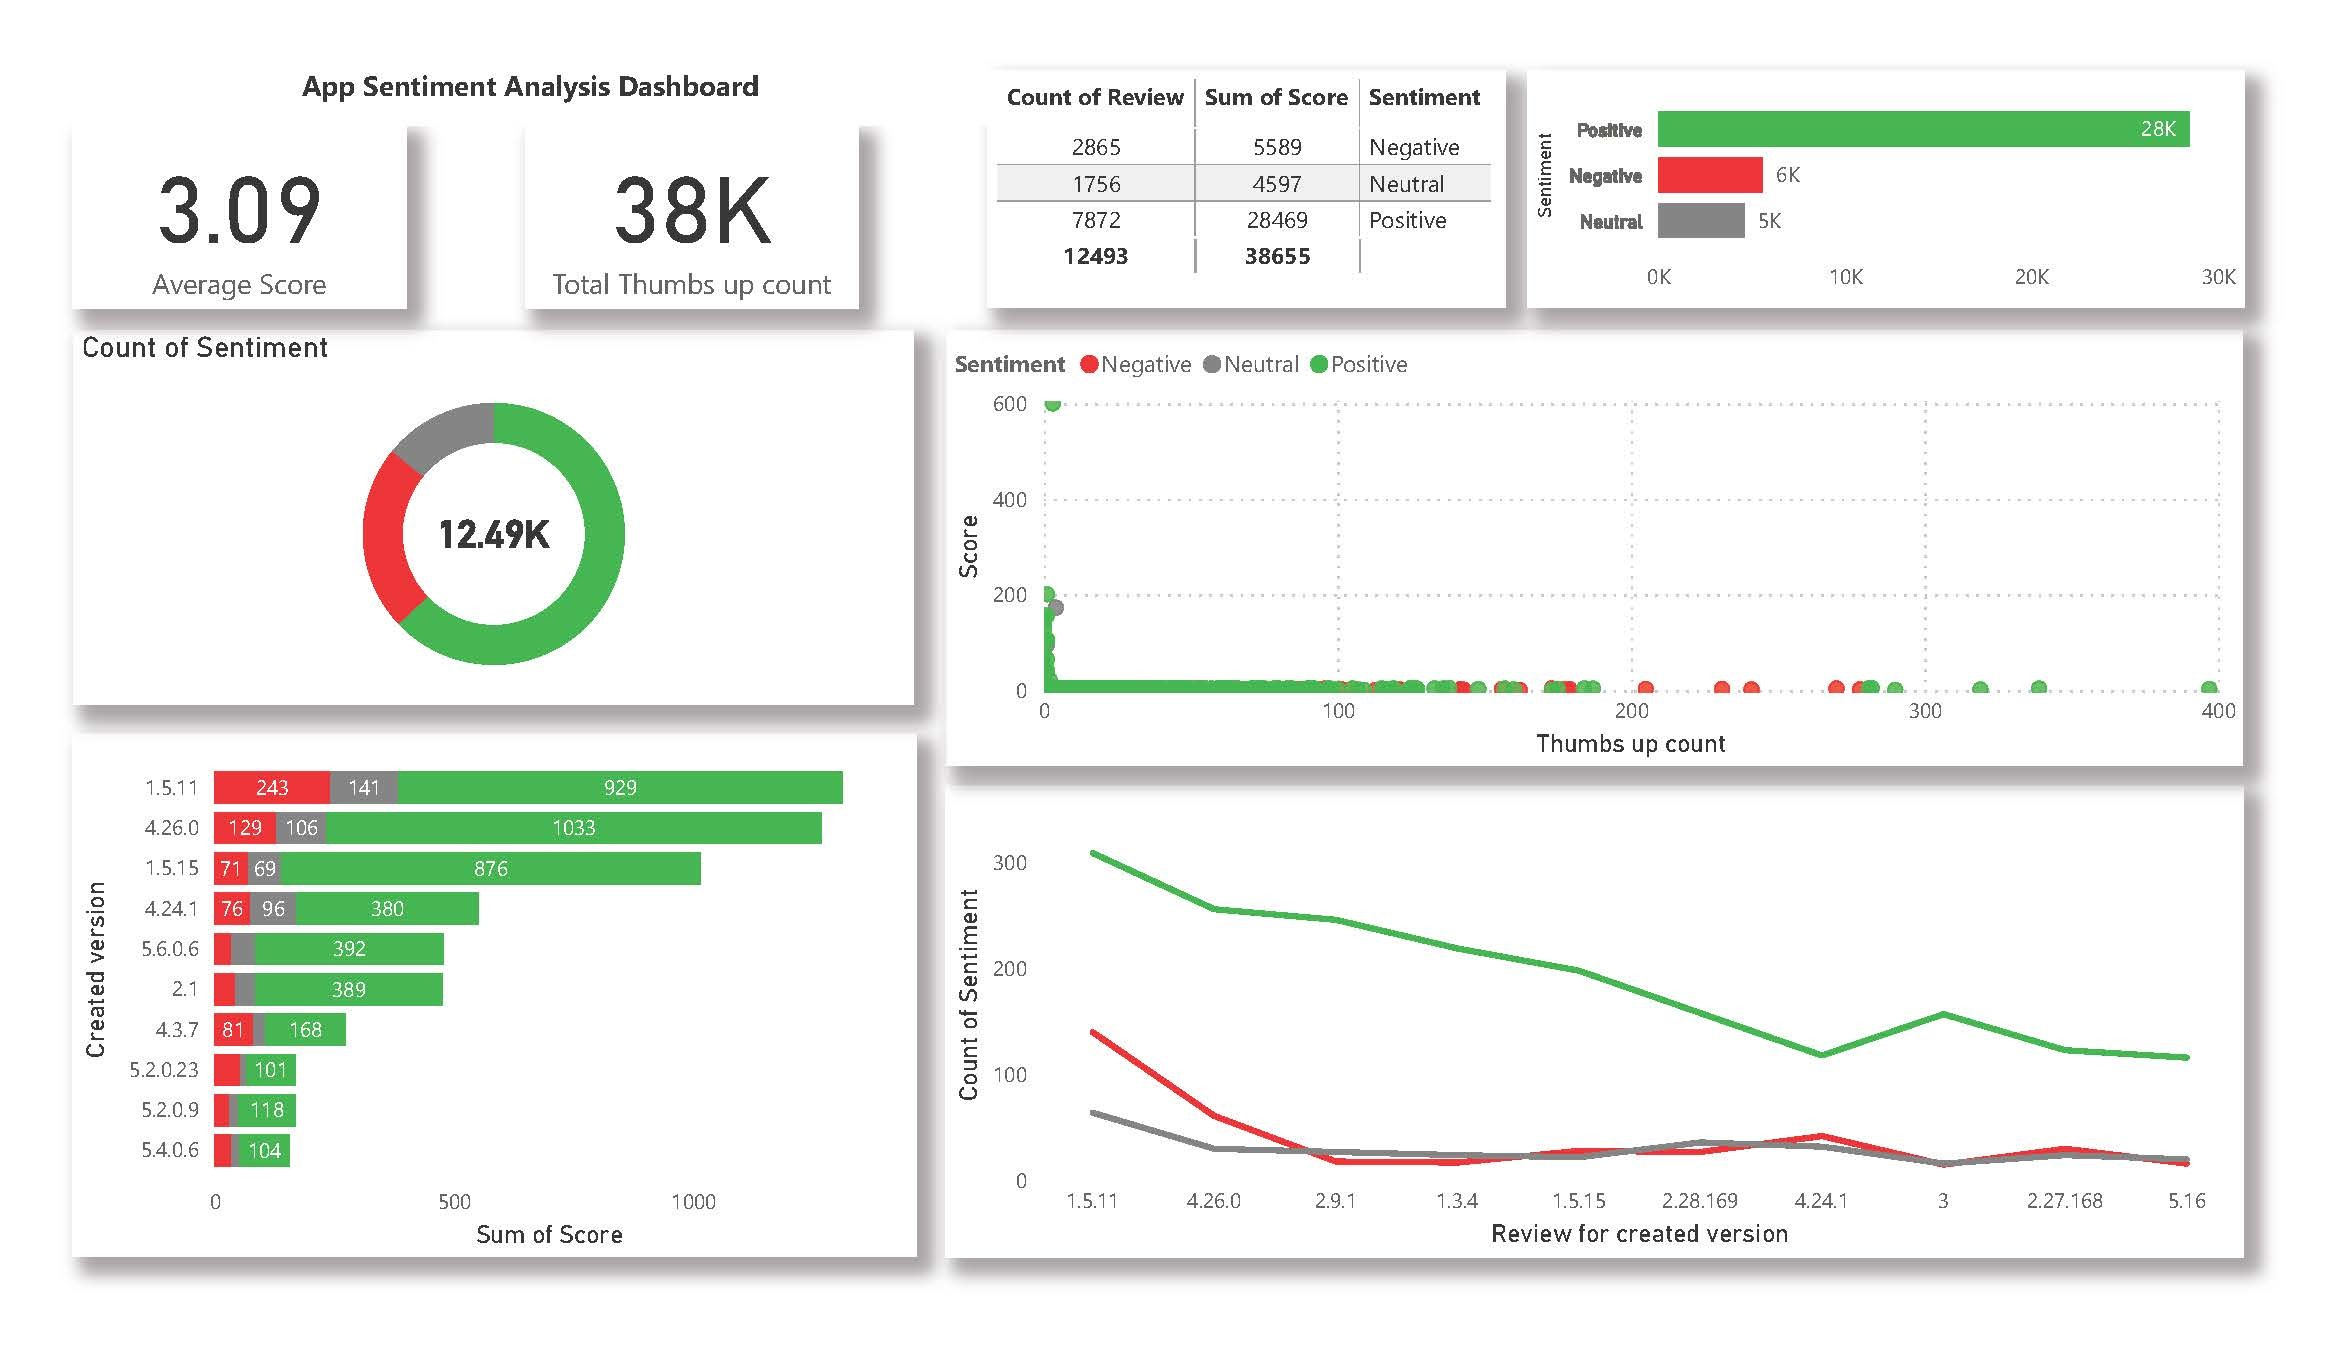

This screenshot's page, from the dashboard's own definition file:
{"tool":"powerbi","page":{"name":"Page 1","canvas":[1280,720],"ordinal":0},"visuals":[{"type":"card","fields":{"Values":["Avg(Sheet1.Score)"]},"box":[13.3,43.4,193,106.1],"z":0},{"type":"card","fields":{"Values":["Sum(Sheet1.Thumbs up count)"]},"box":[219.5,43.4,281,106.1],"z":1000},{"type":"tableEx","fields":{"Values":["Sheet1.Review","Sum(Sheet1.Score)","Sheet1.Sentiment"]},"box":[542.7,12.1,300.3,137.5],"z":2000},{"type":"barChart","fields":{"Y":["Sum(Sheet1.Score)"],"Category":["Sheet1.Sentiment"]},"box":[855.1,12.1,414.9,137.5],"z":3000},{"type":"barChart","title":"Top 10 version based on Maximum Thumbs up count","fields":{"Category":["Sheet1.Review created version"],"Series":["Sheet1.Sentiment"],"Y":["Sum(Sheet1.Score)"]},"box":[13.7,393.8,487.1,306],"z":4000},{"type":"lineChart","title":"Top 30 Versions based on Maximum scores","fields":{"Category":["Sheet1.Review created version"],"Y":["CountNonNull(Sheet1.Sentiment)"],"Series":["Sheet1.Sentiment"]},"box":[518.6,425.7,751.4,272.6],"z":5000},{"type":"donutChart","title":"Count of Sentiment","fields":{"Category":["Sheet1.Sentiment"],"Y":["CountNonNull(Sheet1.Sentiment)"]},"box":[13.3,161.6,487.2,218.3],"z":6000},{"type":"card","fields":{"Values":["CountNonNull(Sheet1.Sentiment)"]},"box":[217.1,248.4,78.4,62.7],"z":7000},{"type":"scatterChart","fields":{"X":["Sum(Sheet1.Thumbs up count)"],"Y":["Sum(Sheet1.Score)"],"Category":["Sheet1.Review"],"Series":["Sheet1.Sentiment"]},"box":[518.6,161.6,751.4,253.3],"z":8000},{"type":"textbox","box":[13.3,4.8,529.4,38.6],"z":9000}]}

Visuals, with their boxes in screenshot pixels (x1, y1, x2, y2), scaled from the page's 1280x720 canvas onto the 2338x1351 screenshot:
card - Avg(Sheet1.Score): box=[24, 81, 377, 281]
card - Sum(Sheet1.Thumbs up count): box=[401, 81, 914, 281]
tableEx - Sheet1.Review x Sum(Sheet1.Score): box=[991, 23, 1540, 281]
barChart - Sum(Sheet1.Score) x Sheet1.Sentiment: box=[1562, 23, 2320, 281]
"Top 10 version based on Maximum Thumbs up count" barChart: box=[25, 739, 915, 1313]
"Top 30 Versions based on Maximum scores" lineChart: box=[947, 799, 2320, 1310]
"Count of Sentiment" donutChart: box=[24, 303, 914, 713]
card - CountNonNull(Sheet1.Sentiment): box=[397, 466, 540, 584]
scatterChart - Sum(Sheet1.Thumbs up count) x Sum(Sheet1.Score): box=[947, 303, 2320, 779]
textbox: box=[24, 9, 991, 81]
